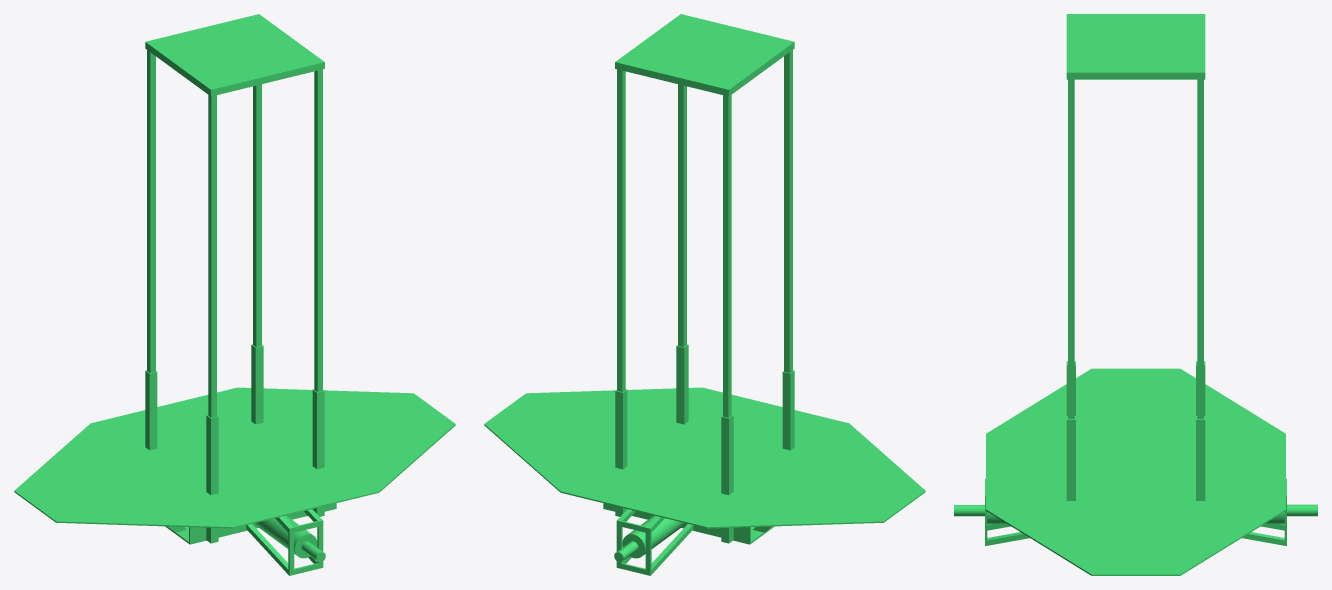
The picture shows the model from 3 angles, left to right: view 1: azimuth 30°, elevation 25°; view 2: azimuth 150°, elevation 25°; view 3: azimuth 270°, elevation 25°; orthographic projection. The views are drawn at different scales.
Visible parts, largest first — view 1: Caffeine Full - MainBodyCaffeine-1; view 2: Caffeine Full - MainBodyCaffeine-1; view 3: Caffeine Full - MainBodyCaffeine-1.
Boxes of the visible parts, x1,y1,x2,y2 form: Caffeine Full - MainBodyCaffeine-1: (14,14,455,575); Caffeine Full - MainBodyCaffeine-1: (484,14,925,575); Caffeine Full - MainBodyCaffeine-1: (954,14,1317,575).
Bounding box in the file's own units: 1.24 × 0.925 × 1.39.
